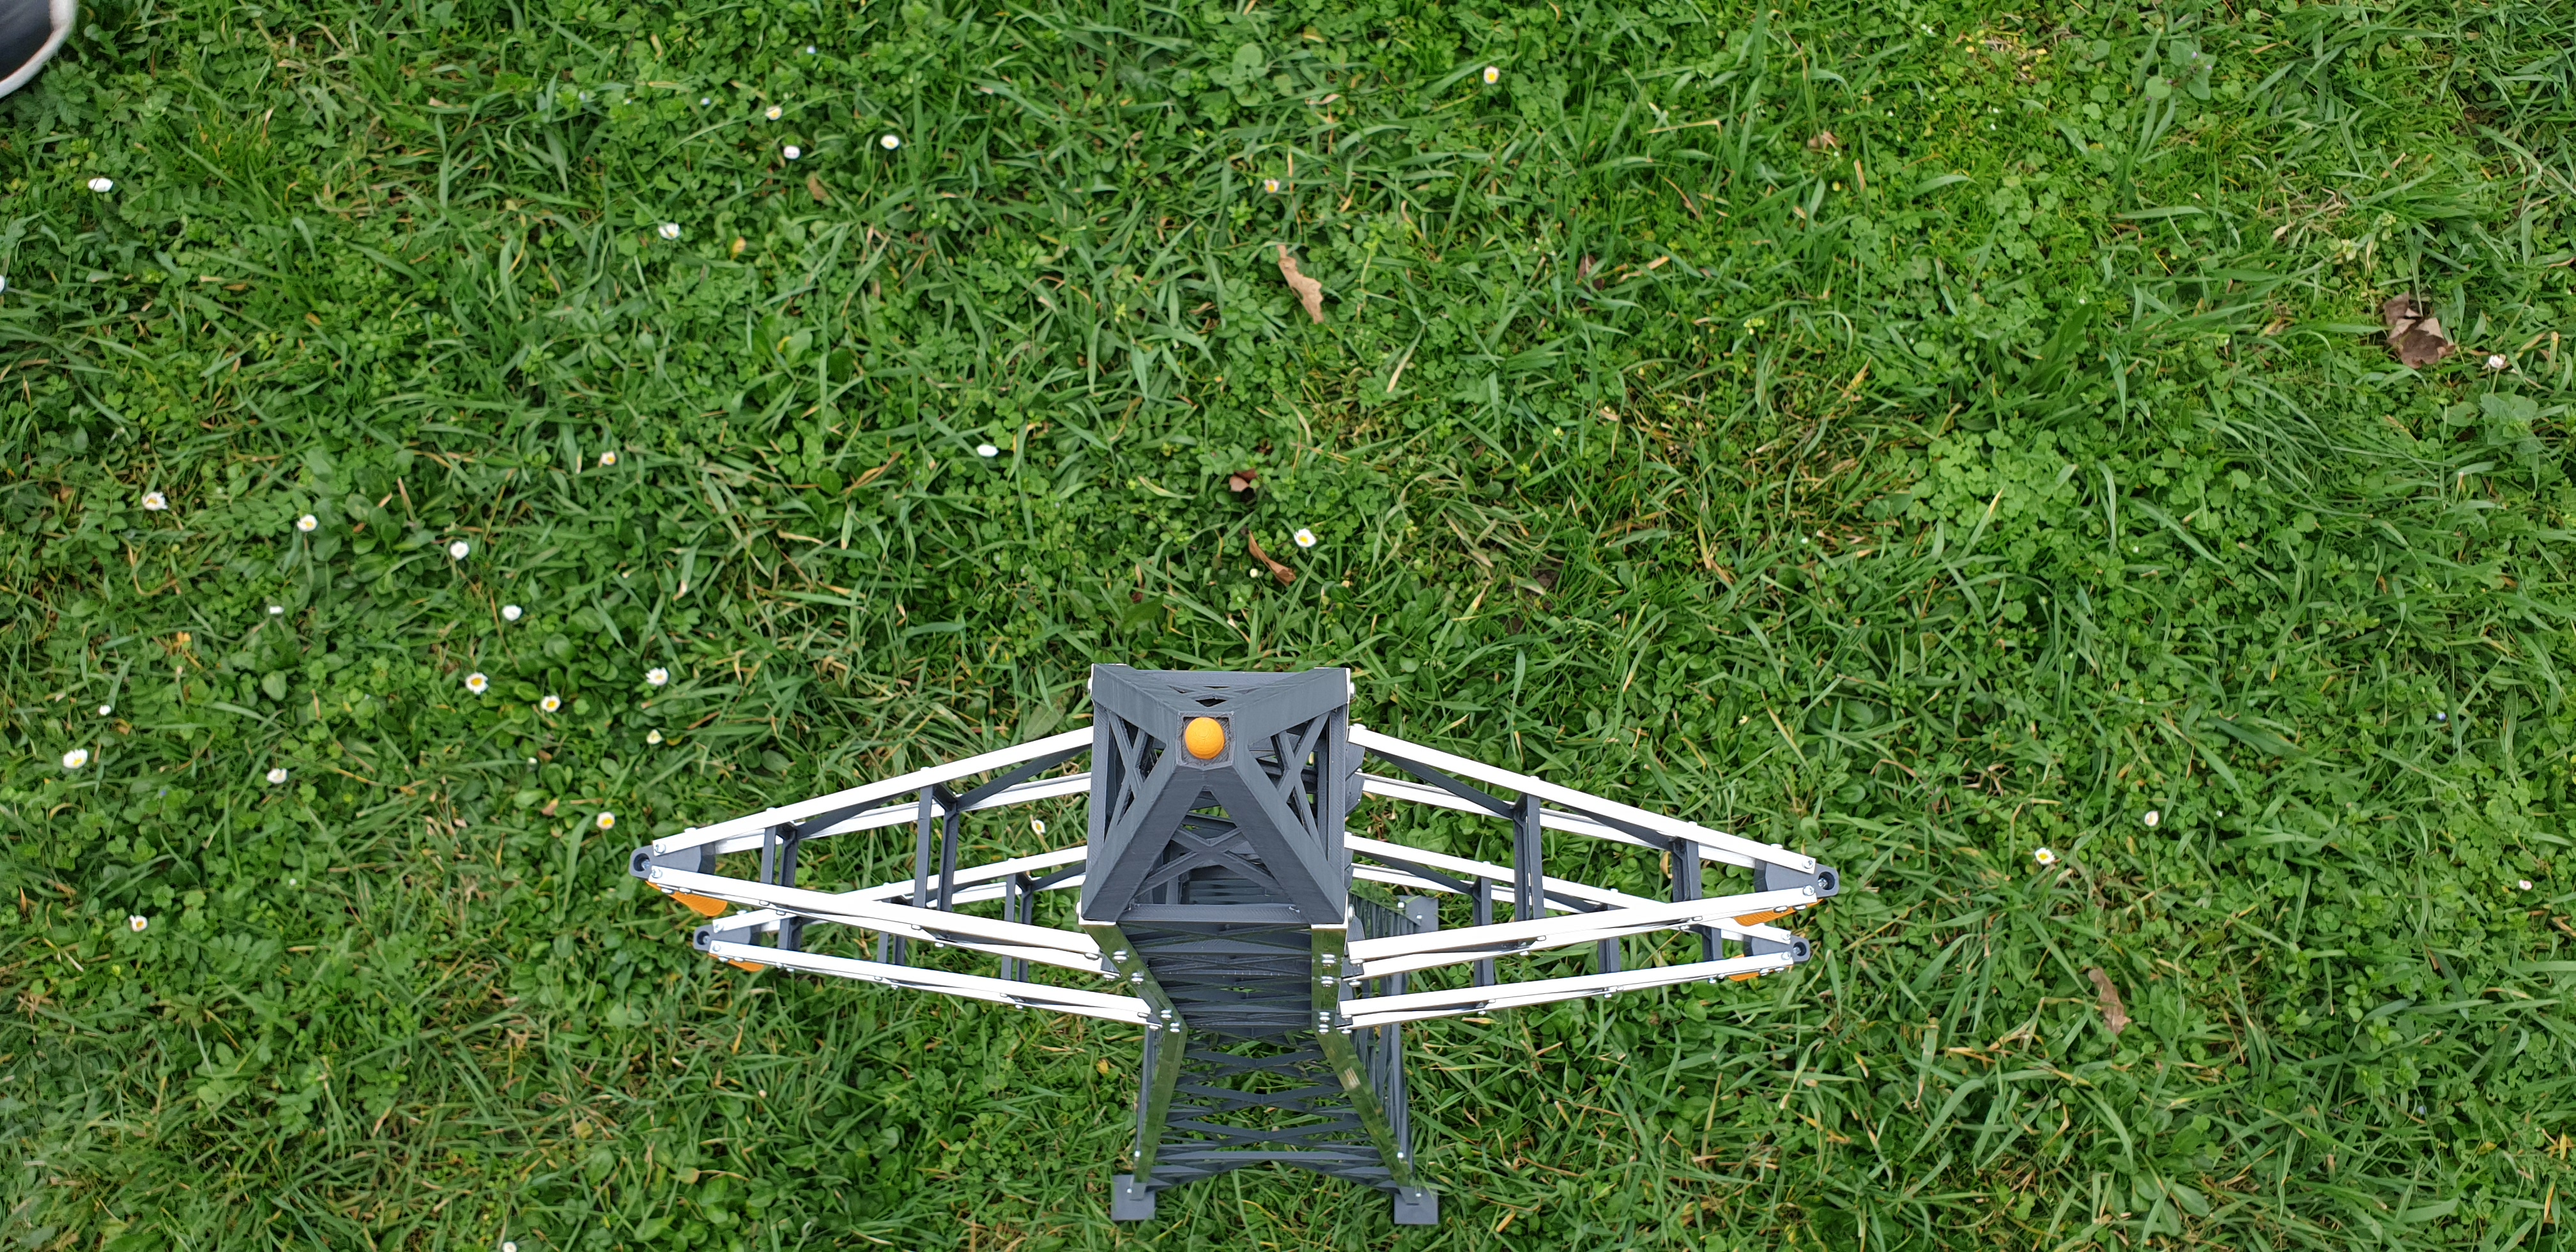pylon_phy: (624, 657, 1850, 937)
